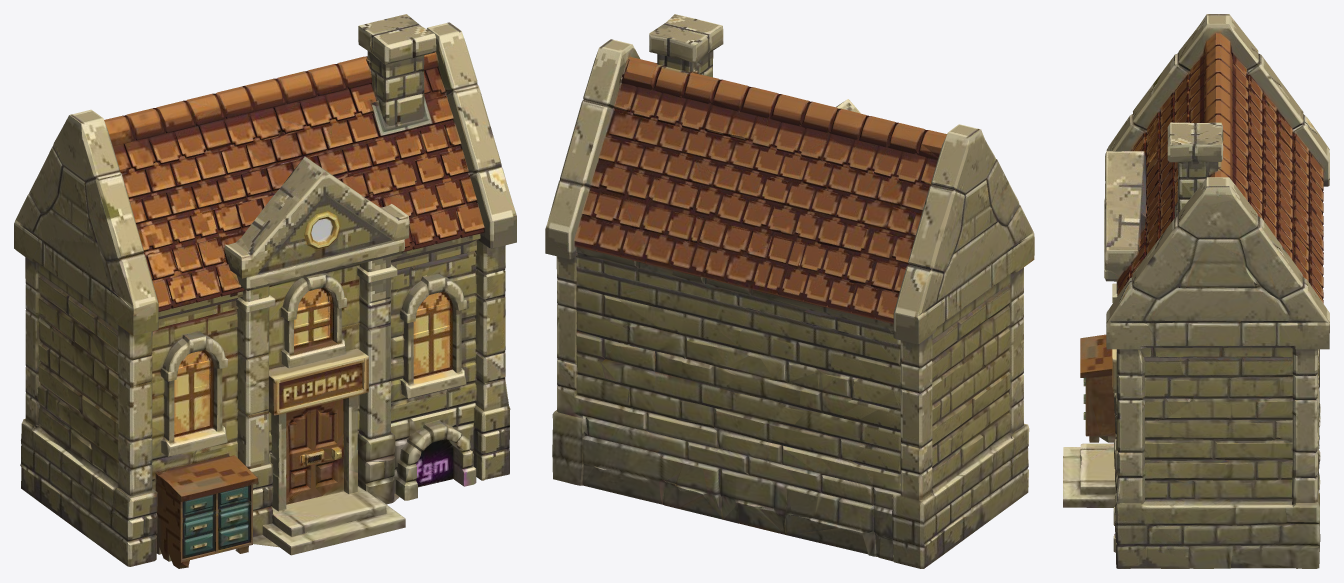
File: archive.glb
3 views of the same model, side by side, from view 1: azimuth 30°, elevation 25°; view 2: azimuth 150°, elevation 25°; view 3: azimuth 270°, elevation 25° (orthographic). The views are drawn at different scales.
Size of the model in its own units: 16 by 17.12 by 10.27.
1 material, 1 textured.
